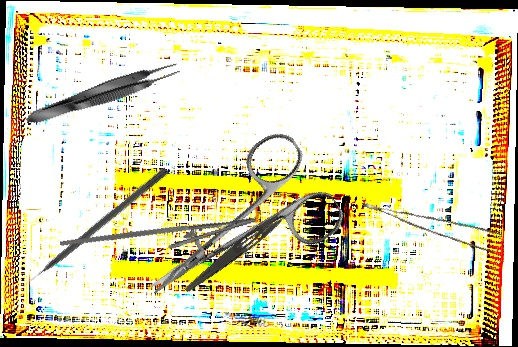Dressing Forceps: (182, 193, 307, 299)
Iris Scissors: (117, 124, 350, 336)
Needle Holder: (59, 192, 261, 286)
Pusher: (18, 165, 170, 291)
Tissue Forceps: (21, 56, 184, 131), (362, 179, 502, 261)
